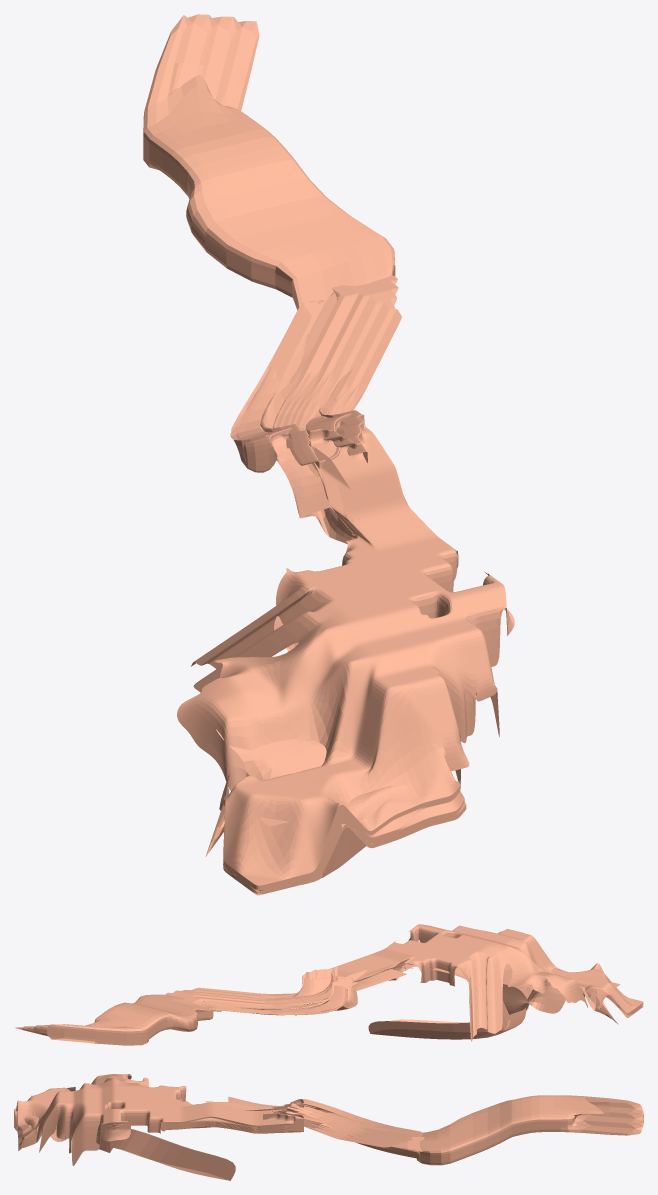
Rendered from path.fbx.
The picture shows the model from 3 angles, top to bottom: view 1: azimuth 30°, elevation 25°; view 2: azimuth 150°, elevation 25°; view 3: azimuth 270°, elevation 25°; orthographic projection. The views are drawn at different scales.
Visible parts, largest first — view 1: Cube, Cube.004; view 2: Cube, Cube.004; view 3: Cube, Cube.004.
Part boxes in pixels (<box>): Cube: <box>177,275,514,895</box>; Cube.004: <box>143,14,395,309</box>; Cube: <box>165,924,643,1041</box>; Cube.004: <box>15,994,221,1045</box>; Cube: <box>14,1074,424,1180</box>; Cube.004: <box>416,1095,643,1165</box>.
Bounding box in the file's own units: 384 × 172 × 670.
